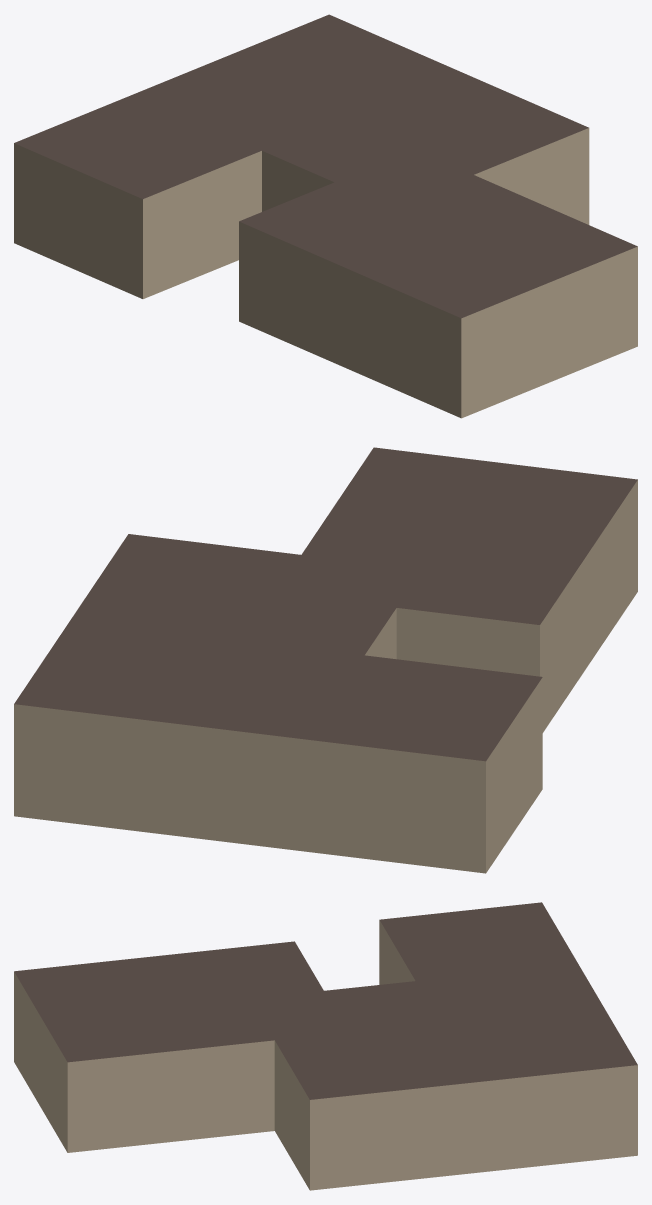
3 views of the same model, one above another, from view 1: azimuth 30°, elevation 25°; view 2: azimuth 150°, elevation 25°; view 3: azimuth 270°, elevation 25° (orthographic). The views are drawn at different scales.
Visible parts, largest first — view 1: HP-w496382180; view 2: HP-w496382180; view 3: HP-w496382180.
Part boxes in pixels (x1,y1,x2,y2): HP-w496382180: (14,14,637,418); HP-w496382180: (14,447,637,873); HP-w496382180: (14,902,637,1190).
Size of the model in its own units: 28.05 by 6 by 37.43.
